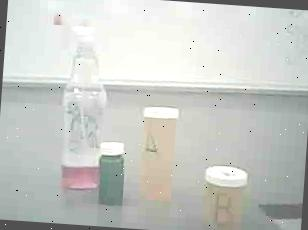Bottle A: (133, 99, 183, 212)
Bottle B: (195, 157, 256, 230)
Bottle C: (92, 137, 132, 207)
hazard: (34, 6, 120, 197)
